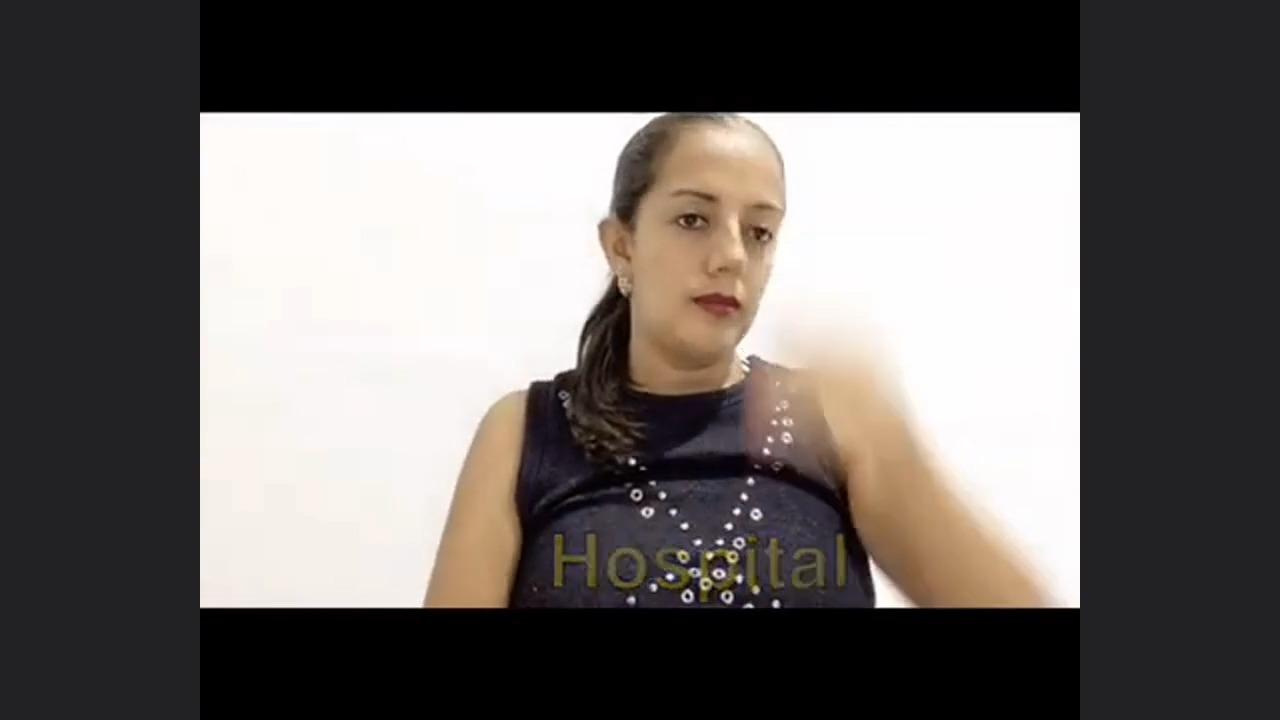Hospital: (386, 116, 1021, 553)
